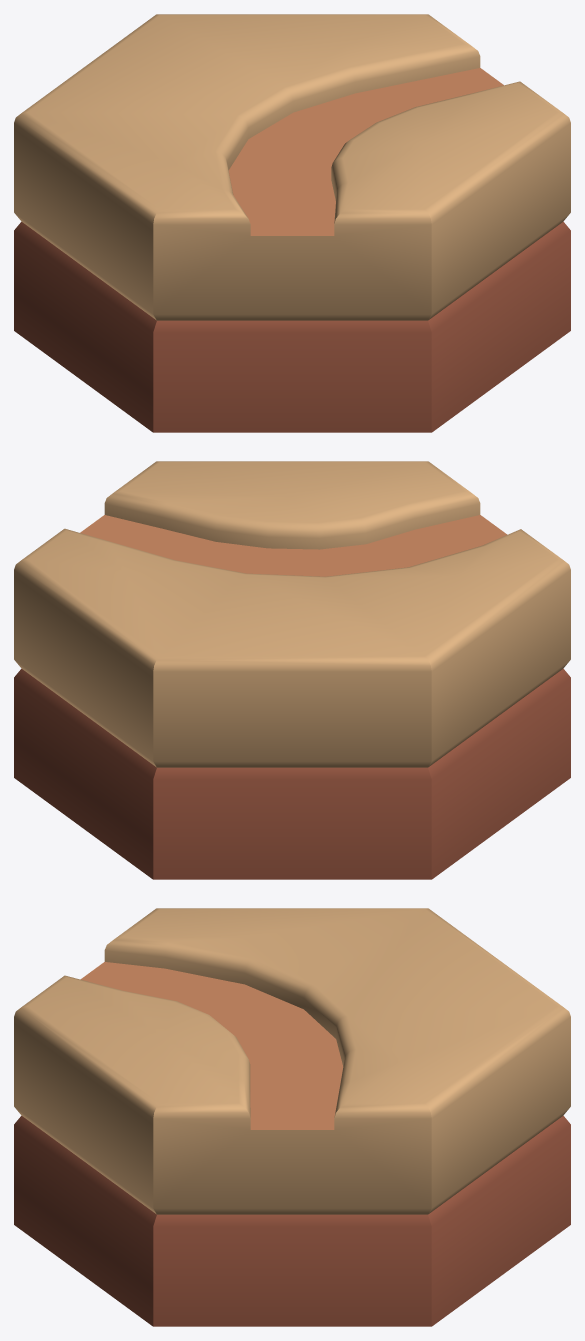
Rendered from hex_sand_roadD_detail.glb.
3 views of the same model, one above another, from view 1: azimuth 30°, elevation 25°; view 2: azimuth 150°, elevation 25°; view 3: azimuth 270°, elevation 25° (orthographic).
Parts seen in each view (by area): view 1: hex_sand_roadD_detail; view 2: hex_sand_roadD_detail; view 3: hex_sand_roadD_detail.
Boxes of the visible parts, x1,y1,x2,y2 form: hex_sand_roadD_detail: (14, 14, 570, 432); hex_sand_roadD_detail: (14, 461, 570, 879); hex_sand_roadD_detail: (14, 908, 570, 1326).
Bounding box in the file's own units: 3.82 × 1.91 × 4.41.
